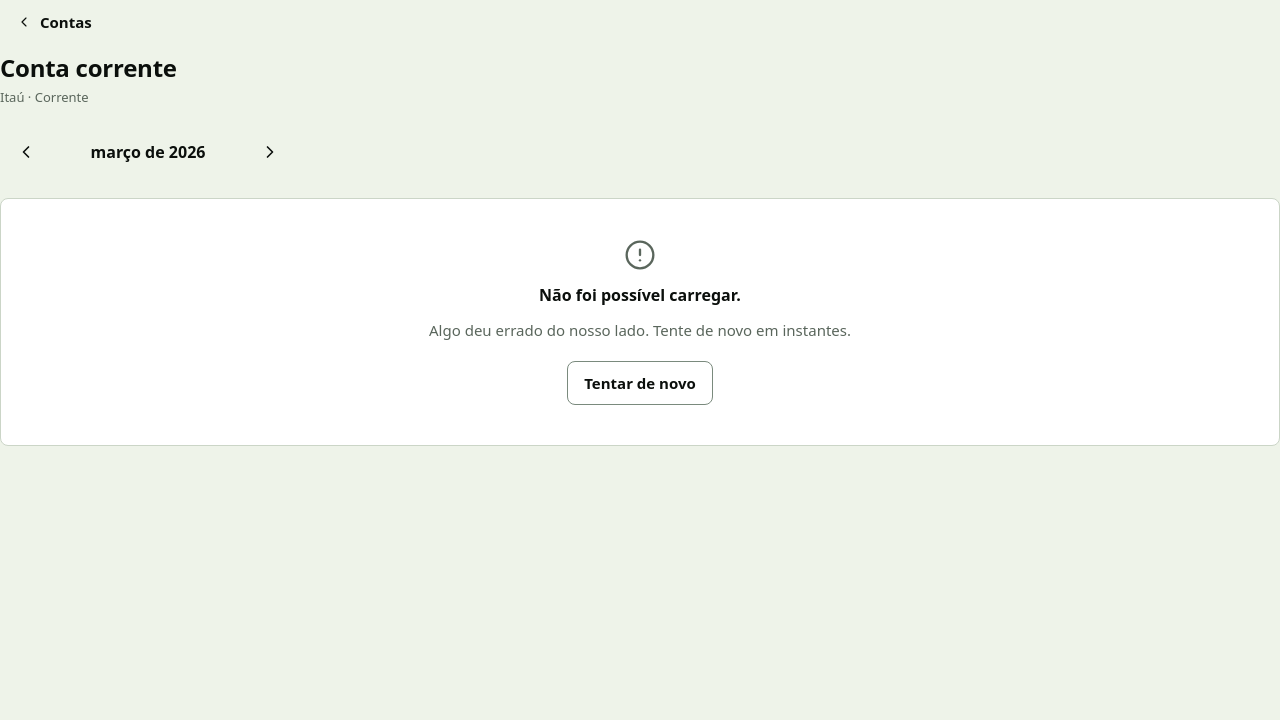
Test case: AccountStatementPage (spec 0015) › shows the error state with a retry on other errors
Expected: the heading "Não foi possível carregar." is shown, [539, 283, 741, 307]
Click the button "Tentar de novo".
click(640, 383)  # box [567, 361, 713, 405]
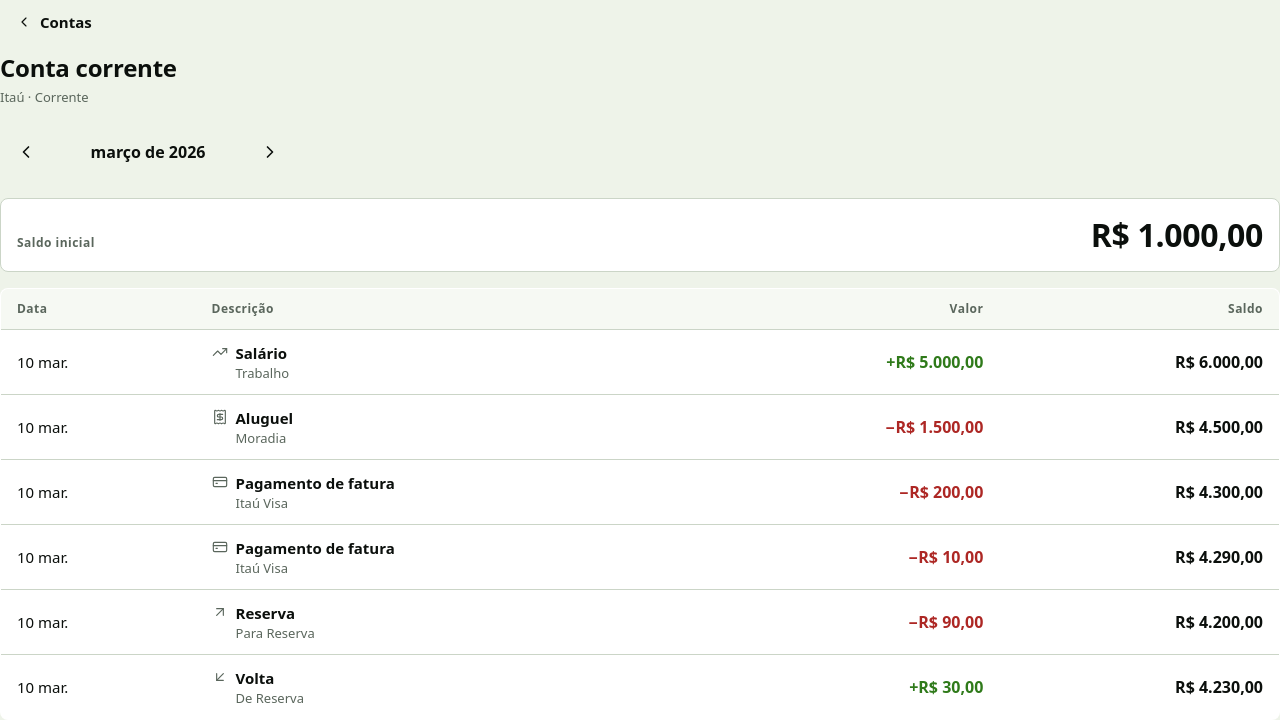
Expected: the table named "Movimentos da conta" is shown, [0, 288, 1279, 719]
